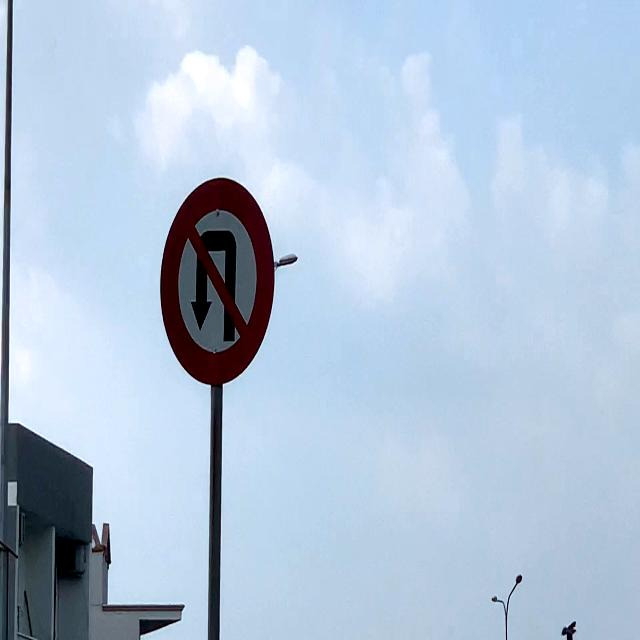P.124a: (158, 169, 274, 390)
